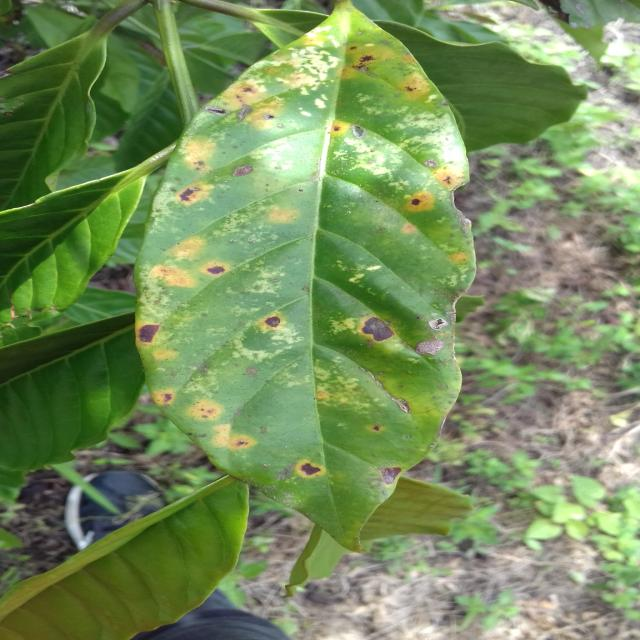Enfermedad-Roya: (137, 1, 477, 553)
